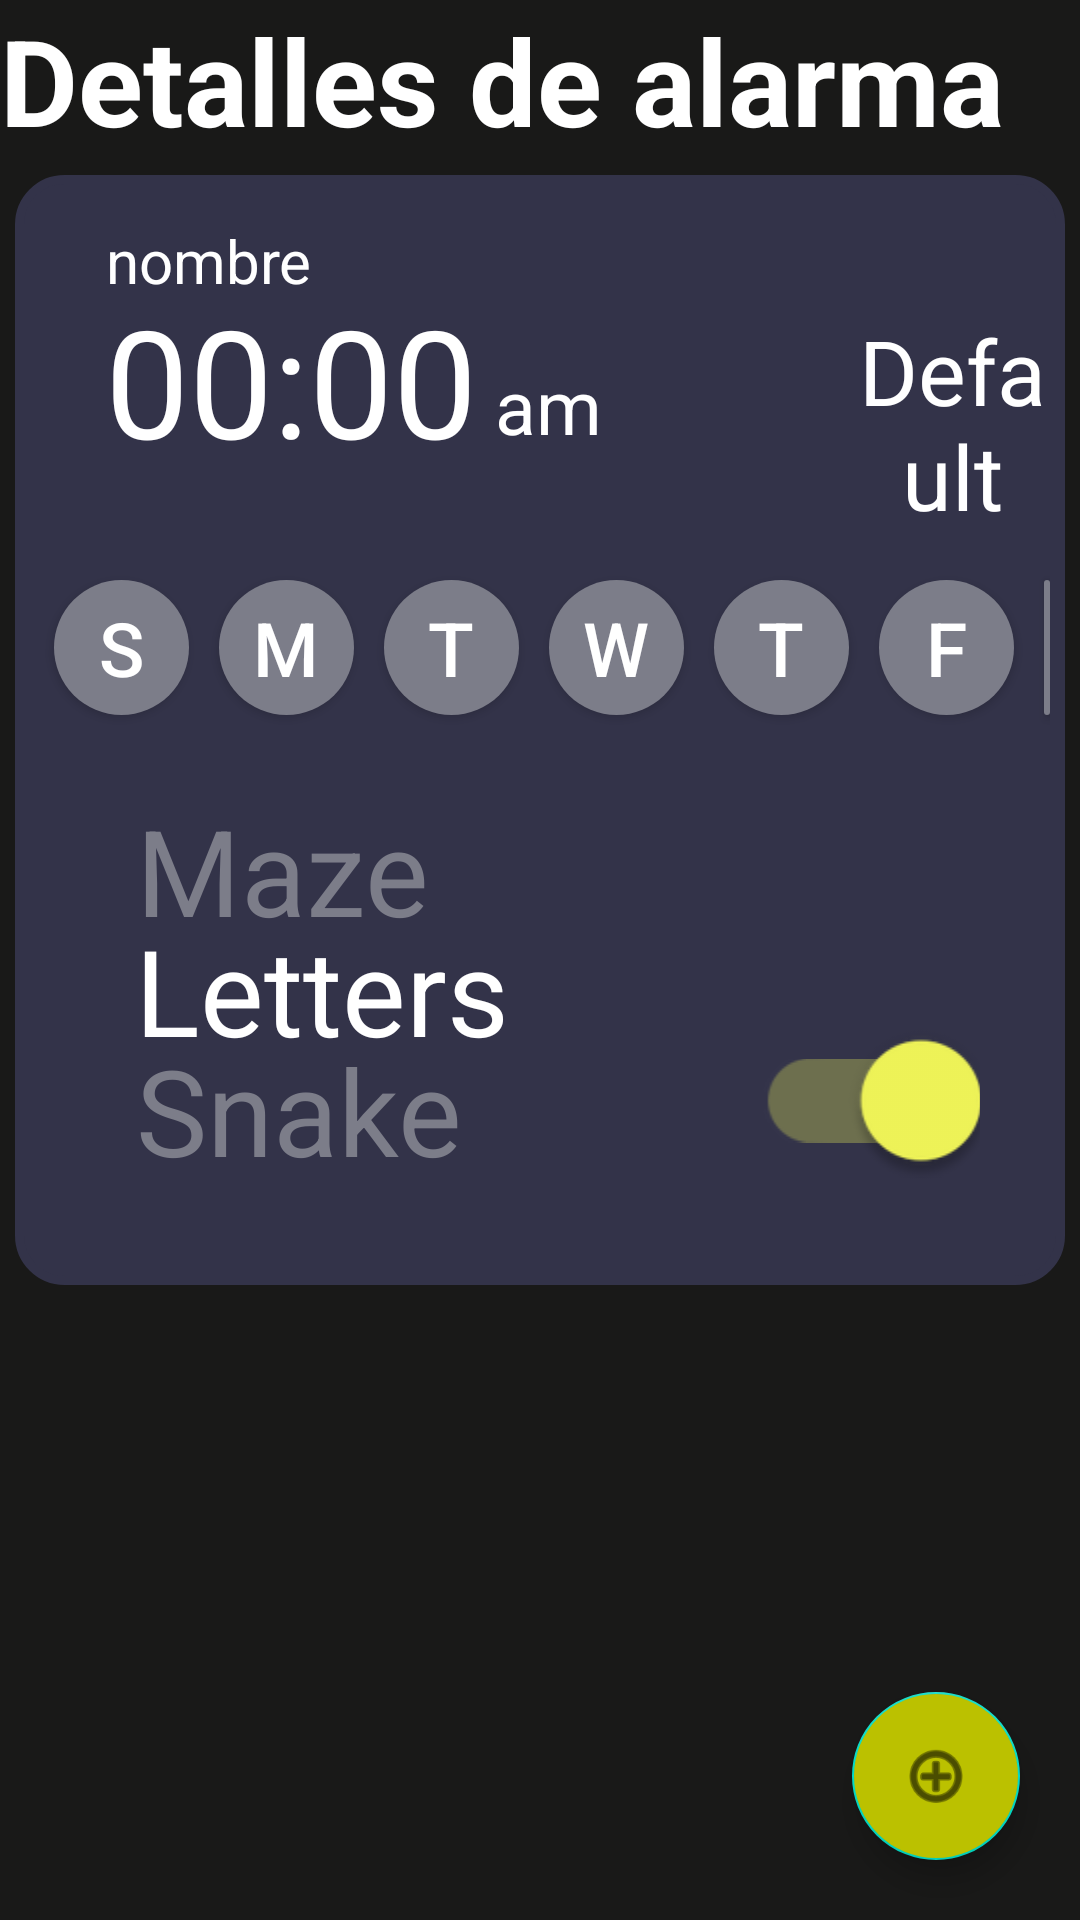

Locate icon controls on the screen. Image size 1080w x 1920h, boxes as bbox=[x1, y1, x2, y2].
Add new alarm: bbox=[852, 1692, 1020, 1860]
